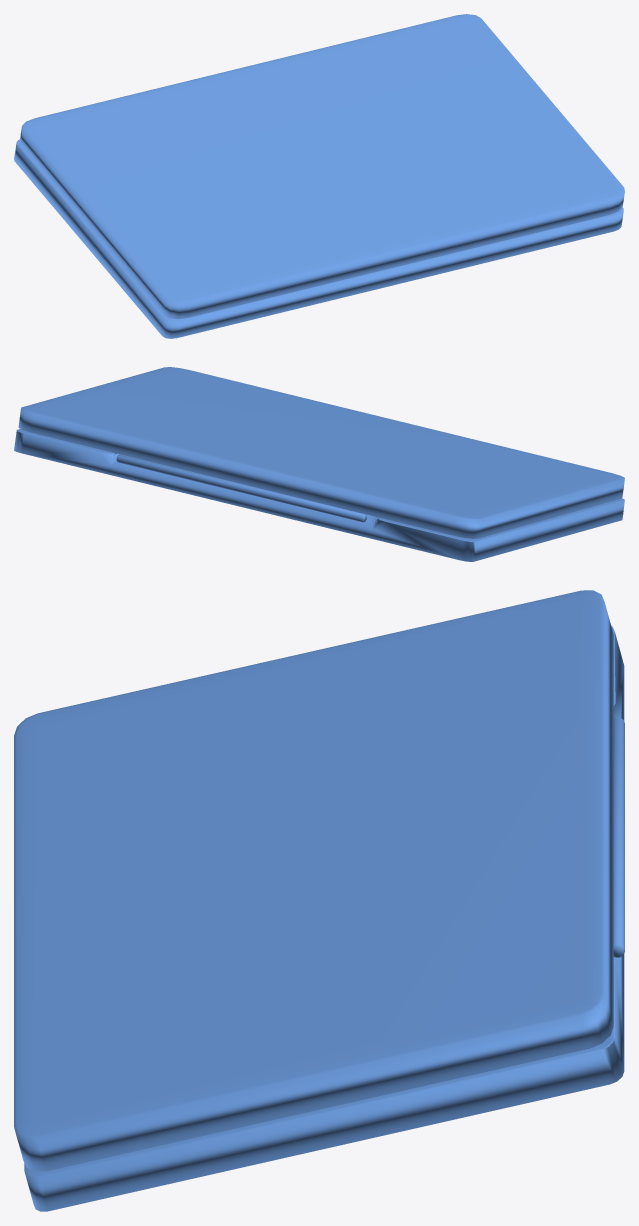
The model's file is laptop-pop.gltf.
3 renders of one model, top to bottom at view 1: azimuth 30°, elevation 25°; view 2: azimuth 150°, elevation 25°; view 3: azimuth 270°, elevation 25°, orthographic. The views are drawn at different scales.
Parts seen in each view (by area): view 1: displayFrame, keyboard; view 2: displayFrame, keyboard, rotationBar; view 3: displayFrame, keyboard, rotationBar.
Part boxes in pixels (x1,y1,x2,y2): displayFrame: [19, 14, 624, 318]; keyboard: [14, 139, 623, 338]; displayFrame: [18, 367, 624, 538]; keyboard: [14, 429, 624, 561]; rotationBar: [116, 454, 366, 522]; displayFrame: [14, 590, 613, 1171]; keyboard: [24, 626, 624, 1211]; rotationBar: [613, 717, 624, 957].
Size of the model in its own units: 3.31 by 0.7426 by 2.01.
